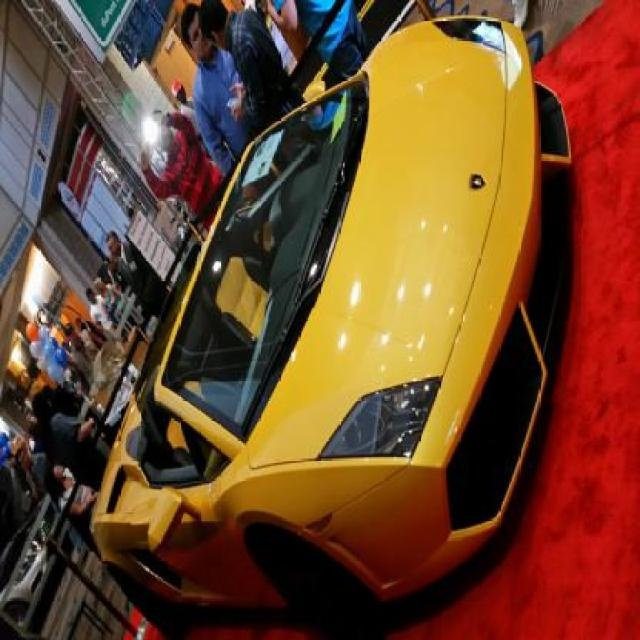obstacle: (0, 229, 171, 565), (137, 0, 370, 232), (510, 0, 532, 29)
